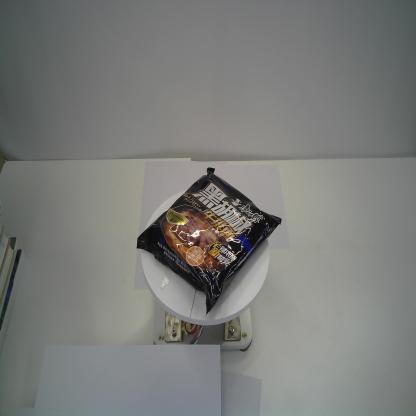Instant Noodles: (135, 165, 283, 318)
